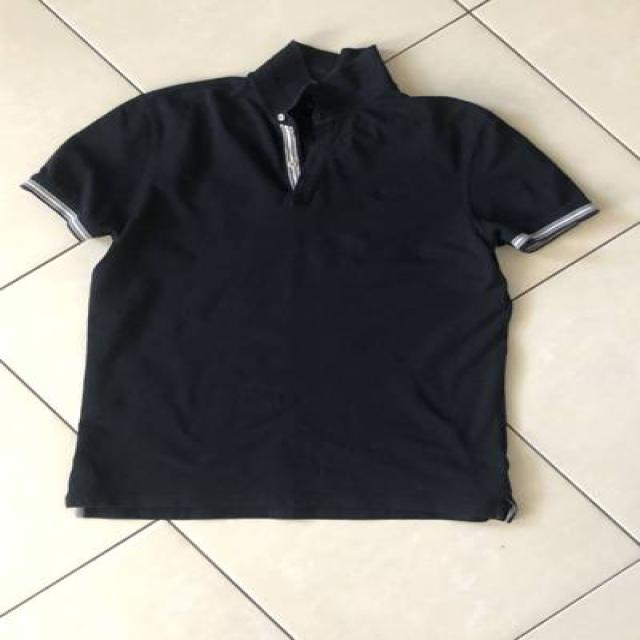shirt: (22, 39, 601, 524)
